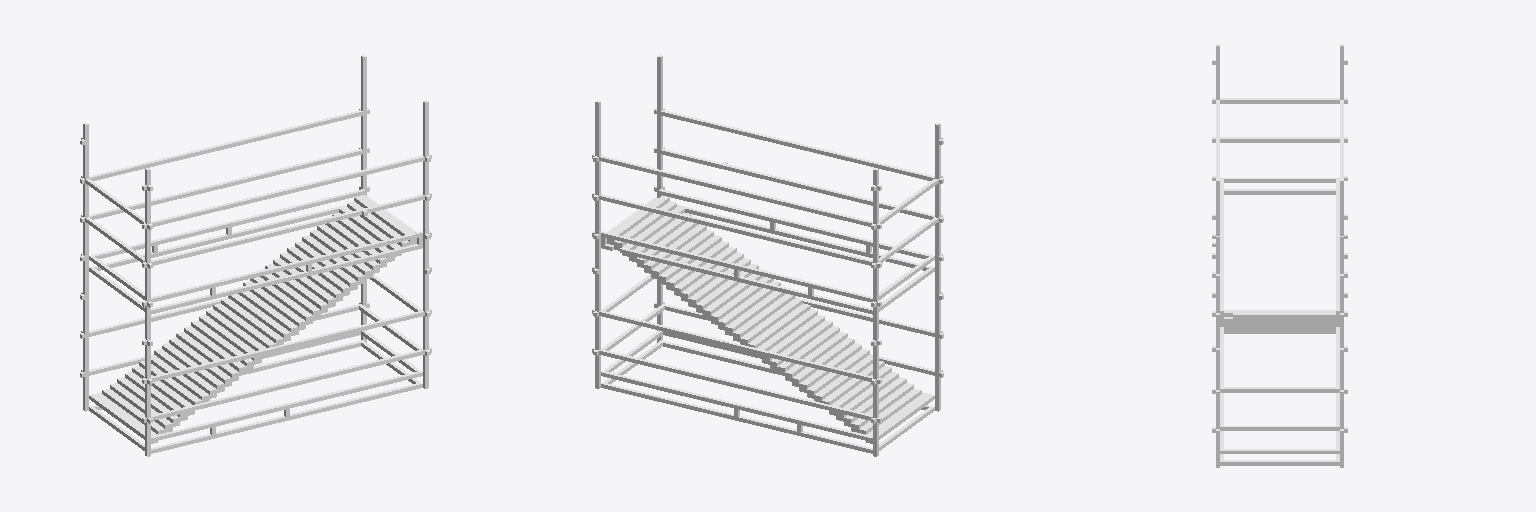
Rendered from GDS2_Construction-2.obj.
The picture shows the model from 3 angles: view 1: azimuth 30°, elevation 25°; view 2: azimuth 150°, elevation 25°; view 3: azimuth 270°, elevation 25°; orthographic projection.
Visible parts, largest first — view 1: GDS2_Construction-2; view 2: GDS2_Construction-2; view 3: GDS2_Construction-2.
Boxes of the visible parts, <box> form: GDS2_Construction-2: <box>80,55,431,456</box>; GDS2_Construction-2: <box>592,55,943,456</box>; GDS2_Construction-2: <box>1212,44,1347,467</box>.
Bounding box in the file's own units: 7.8 × 7.4 × 3.2.